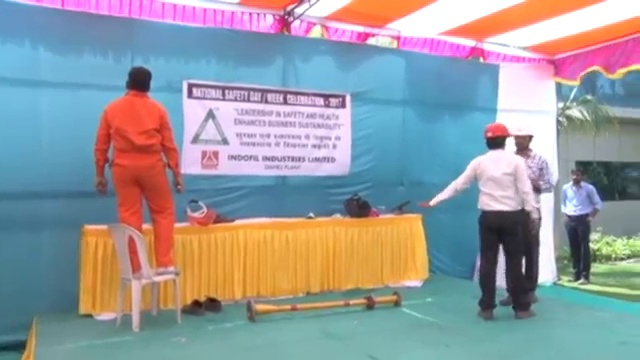helmet: (482, 120, 512, 141), (511, 121, 536, 138)
helmet_off: (124, 65, 154, 93), (568, 167, 585, 185)
helmet_on: (481, 119, 511, 152), (511, 121, 537, 158)
person: (417, 116, 537, 321), (92, 66, 187, 284), (512, 121, 554, 303), (559, 168, 603, 290)
